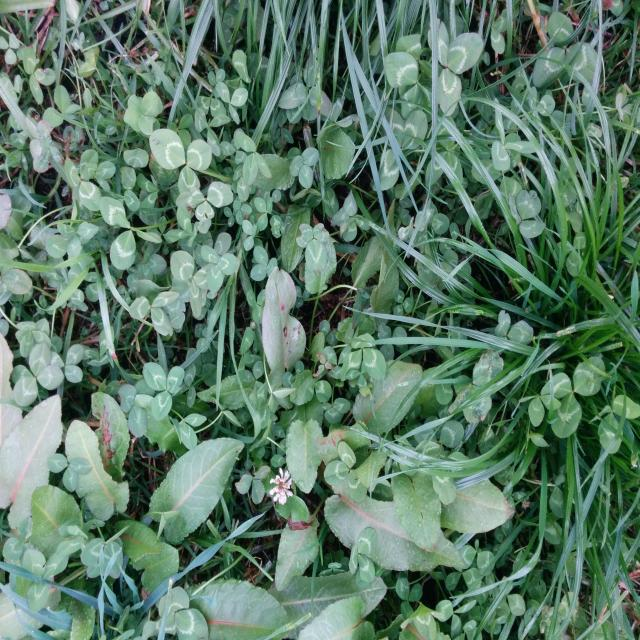Four Leaf Clover: (123, 91, 163, 135)
